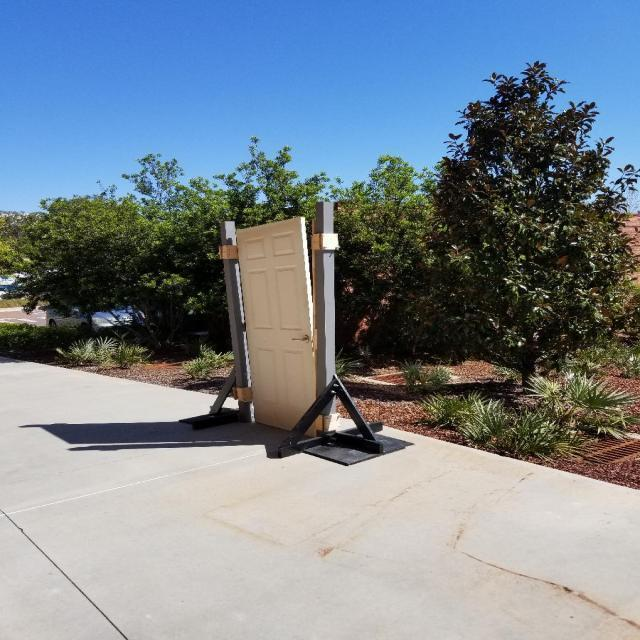door: (233, 216, 325, 440), (290, 332, 310, 346)
